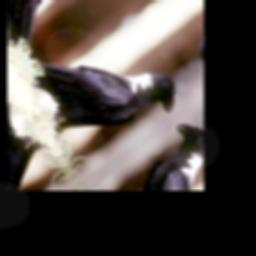Crow: (15, 0, 189, 181)
